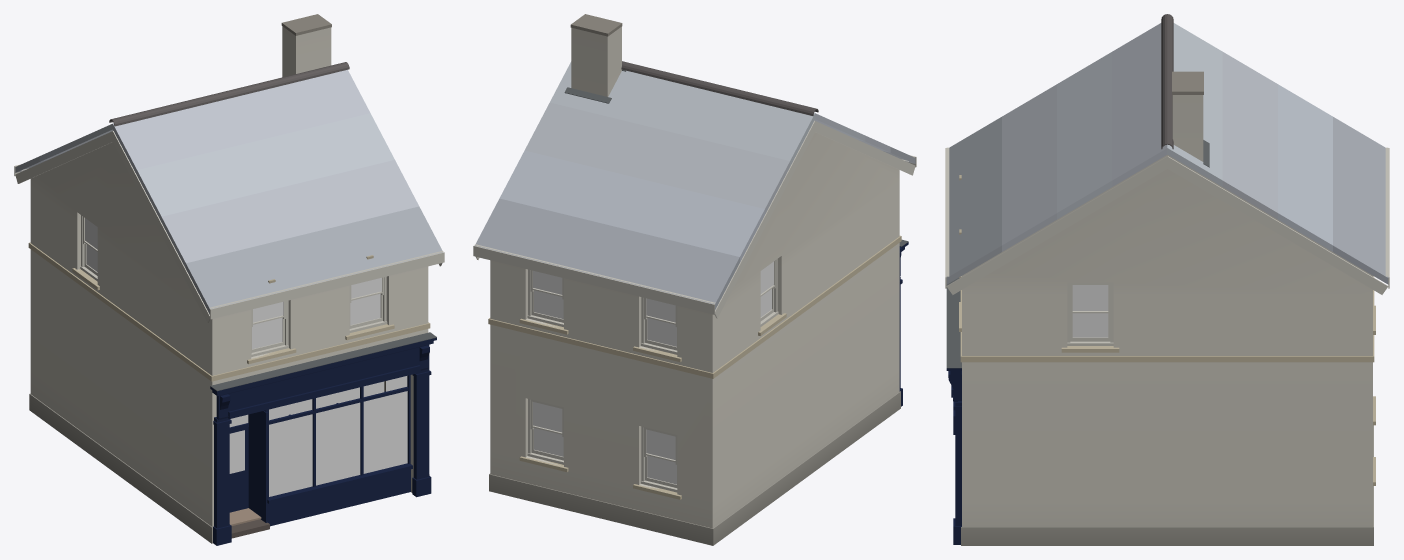
The model's file is town_chip_shop_a_lod2.glb.
3 renders of one model, left to right at view 1: azimuth 30°, elevation 25°; view 2: azimuth 150°, elevation 25°; view 3: azimuth 270°, elevation 25°, orthographic. The views are drawn at different scales.
Visible parts, largest first — view 1: body; view 2: body; view 3: body.
Part boxes in pixels (bbox=[...]): body: bbox=[14, 14, 444, 545]; body: bbox=[473, 14, 916, 545]; body: bbox=[945, 14, 1389, 545].
Size of what is drawn, in the model's own units: 5.98 by 9.71 by 8.65.
